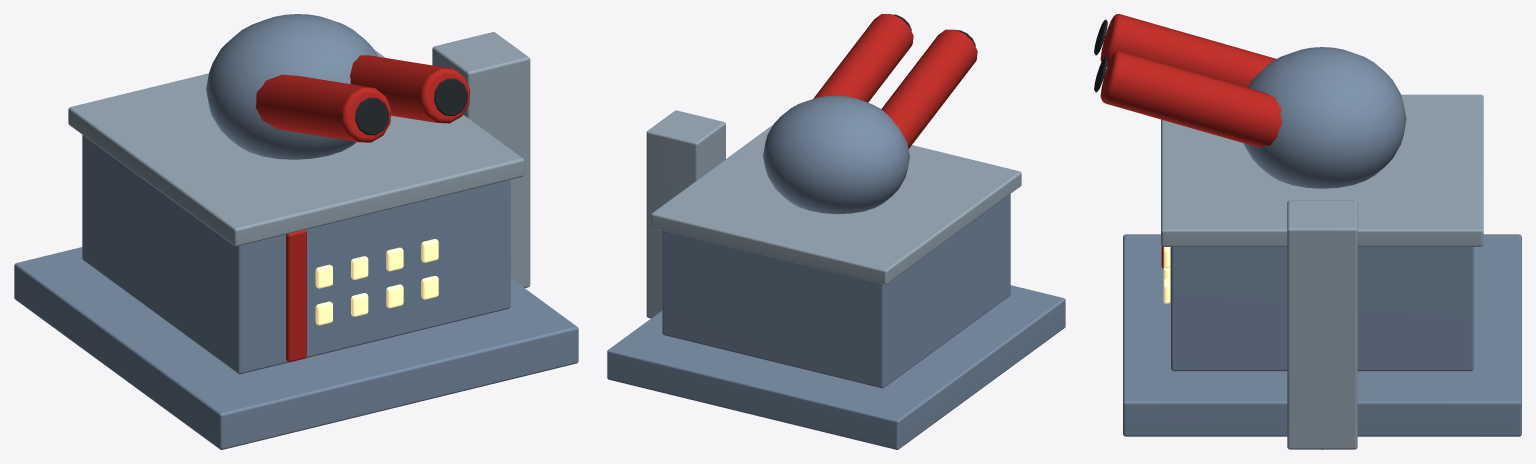
3 renders of one model, left to right at view 1: azimuth 30°, elevation 25°; view 2: azimuth 150°, elevation 25°; view 3: azimuth 270°, elevation 25°, orthographic. The views are drawn at different scales.
Visible parts, largest first — view 1: Modular block storey, Foundation slab, Block roof ledge, Weapon pivot, Block buttress, Weapon barrel, Weapon barrel.001, Vertical block colour strip, Weapon dark bore, Weapon dark bore.001; view 2: Modular block storey, Foundation slab, Block roof ledge, Weapon pivot, Block buttress, Weapon barrel, Weapon barrel.001; view 3: Foundation slab, Block roof ledge, Modular block storey, Block buttress, Weapon pivot, Weapon barrel.001, Weapon barrel.
Part boxes in pixels (bbox=[...]): Modular block storey: bbox=[82, 135, 510, 374]; Foundation slab: bbox=[14, 247, 578, 449]; Block roof ledge: bbox=[68, 49, 524, 246]; Weapon pivot: bbox=[206, 14, 377, 159]; Block buttress: bbox=[432, 32, 530, 287]; Weapon barrel: bbox=[255, 74, 391, 142]; Weapon barrel.001: bbox=[350, 55, 470, 123]; Vertical block colour strip: bbox=[286, 230, 306, 362]; Weapon dark bore: bbox=[355, 97, 388, 135]; Weapon dark bore.001: bbox=[434, 78, 467, 115]; Modular block storey: bbox=[662, 194, 1010, 388]; Foundation slab: bbox=[607, 285, 1065, 449]; Block roof ledge: bbox=[651, 124, 1021, 284]; Weapon pivot: bbox=[763, 95, 909, 214]; Block buttress: bbox=[646, 110, 725, 318]; Weapon barrel: bbox=[881, 29, 977, 148]; Weapon barrel.001: bbox=[813, 14, 913, 102]; Foundation slab: bbox=[1123, 234, 1521, 436]; Block roof ledge: bbox=[1161, 94, 1483, 246]; Modular block storey: bbox=[1171, 247, 1473, 371]; Block buttress: bbox=[1287, 200, 1357, 449]; Weapon pivot: bbox=[1243, 47, 1406, 188]; Weapon barrel.001: bbox=[1100, 51, 1282, 147]; Weapon barrel: bbox=[1100, 14, 1275, 87].
Size of the model in its own units: 2.25 by 1.8 by 2.19.
